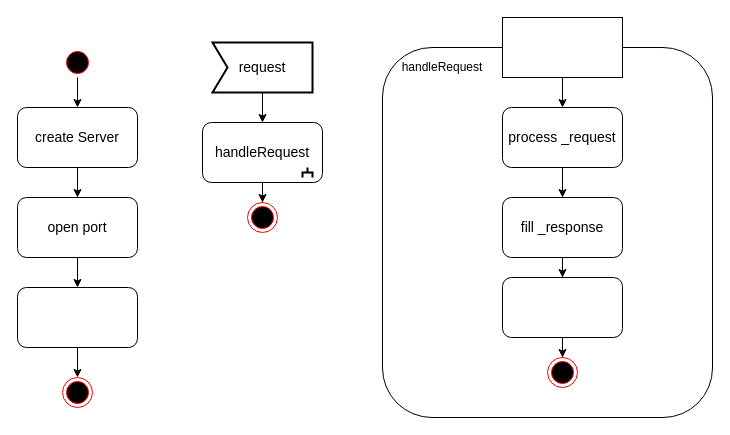
Image size: 730x435. Some labels were removed from this diagram. The shapes that lost their labels are listed below. From the top down, each one's centre as x and y in pixels, then its label:
point (562, 47): _request _response
point (77, 317): add request-Listener
point (562, 307): send _response
